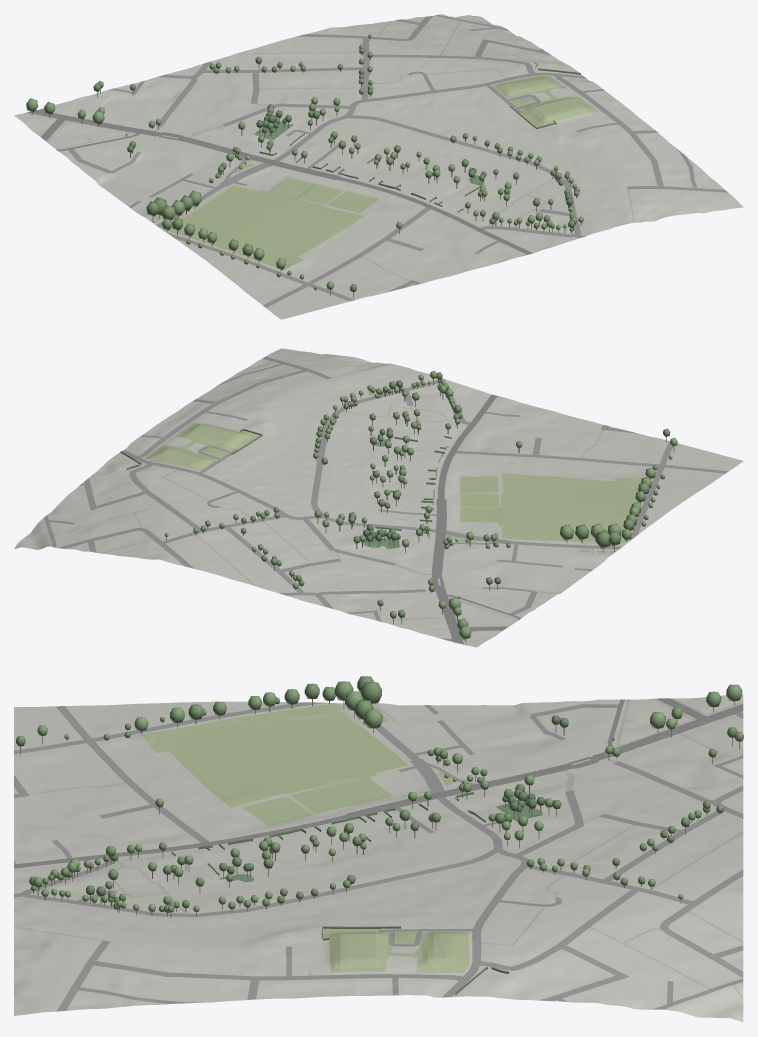
The picture shows the model from 3 angles, top to bottom: view 1: azimuth 30°, elevation 25°; view 2: azimuth 150°, elevation 25°; view 3: azimuth 270°, elevation 25°; orthographic projection. The views are drawn at different scales.
Visible parts, largest first — view 1: t12_03_terrain, t12_03_roads_minor, way/87250075@t12_03, t12_03_trees_mapped, t12_03_roads_major, way/1226527256@t12_03, t12_03_roads_path, t12_03_hedges, way/116933009@t12_03; view 2: t12_03_terrain, t12_03_roads_minor, t12_03_trees_mapped, way/87250075@t12_03, t12_03_roads_major, way/1226527256@t12_03, t12_03_roads_path, way/116933009@t12_03, t12_03_hedges; view 3: t12_03_terrain, t12_03_roads_minor, way/87250075@t12_03, t12_03_trees_mapped, way/1226527256@t12_03, t12_03_roads_major, t12_03_roads_path, way/116933009@t12_03, t12_03_hedges, way/1134792362@t12_03_canopy.
Boxes of the visible parts, box(x1,y1,x2,y2) form: t12_03_terrain: box(14, 14, 743, 319); t12_03_roads_minor: box(40, 14, 727, 307); way/87250075@t12_03: box(166, 185, 364, 270); t12_03_trees_mapped: box(26, 34, 583, 297); t12_03_roads_major: box(27, 110, 532, 254); way/1226527256@t12_03: box(492, 76, 598, 129); t12_03_roads_path: box(23, 16, 635, 281); t12_03_hedges: box(259, 62, 580, 212); way/116933009@t12_03: box(327, 191, 378, 212); t12_03_terrain: box(14, 348, 743, 647); t12_03_roads_minor: box(43, 356, 728, 641); t12_03_trees_mapped: box(165, 370, 677, 641); way/87250075@t12_03: box(498, 473, 641, 542); t12_03_roads_major: box(430, 394, 521, 644); way/1226527256@t12_03: box(145, 422, 261, 470); t12_03_roads_path: box(37, 363, 626, 645); way/116933009@t12_03: box(459, 476, 498, 492); t12_03_hedges: box(120, 429, 451, 538); t12_03_terrain: box(14, 695, 743, 1022); t12_03_roads_minor: box(14, 699, 743, 1011); way/87250075@t12_03: box(140, 704, 408, 807); t12_03_trees_mapped: box(16, 676, 743, 917); way/1226527256@t12_03: box(322, 928, 469, 972); t12_03_roads_major: box(14, 698, 743, 868); t12_03_roads_path: box(14, 698, 743, 1000); way/116933009@t12_03: box(242, 796, 312, 825); t12_03_hedges: box(171, 792, 508, 995); way/1134792362@t12_03_canopy: box(502, 784, 544, 818).
Bounding box in the file's own units: 505 × 34.6 × 500.
